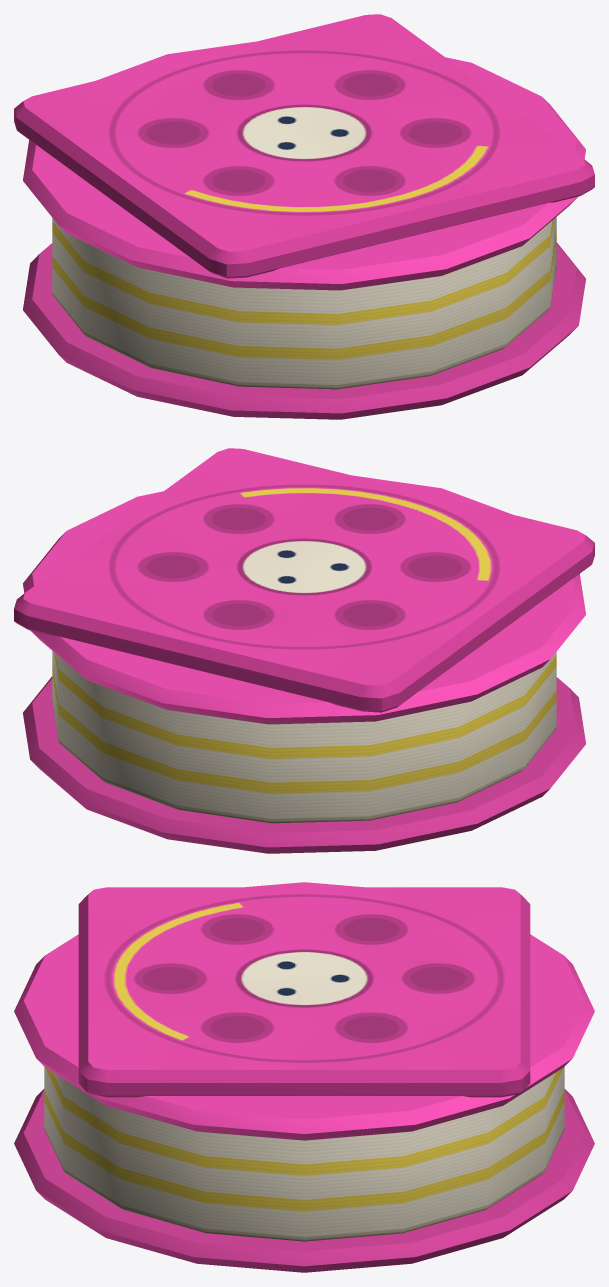
Rendered from reception_tape_reel_lod1.glb.
The picture shows the model from 3 angles, top to bottom: view 1: azimuth 30°, elevation 25°; view 2: azimuth 150°, elevation 25°; view 3: azimuth 270°, elevation 25°; orthographic projection. The views are drawn at different scales.
Visible parts, largest first — view 1: reception_tape_reel_LOD1; view 2: reception_tape_reel_LOD1; view 3: reception_tape_reel_LOD1.
Part boxes in pixels (bbox=[...]): reception_tape_reel_LOD1: bbox=[14, 14, 594, 419]; reception_tape_reel_LOD1: bbox=[14, 448, 594, 853]; reception_tape_reel_LOD1: bbox=[14, 882, 594, 1272].
Size of the model in its own units: 9 by 3 by 9.
1 material, 1 textured.
